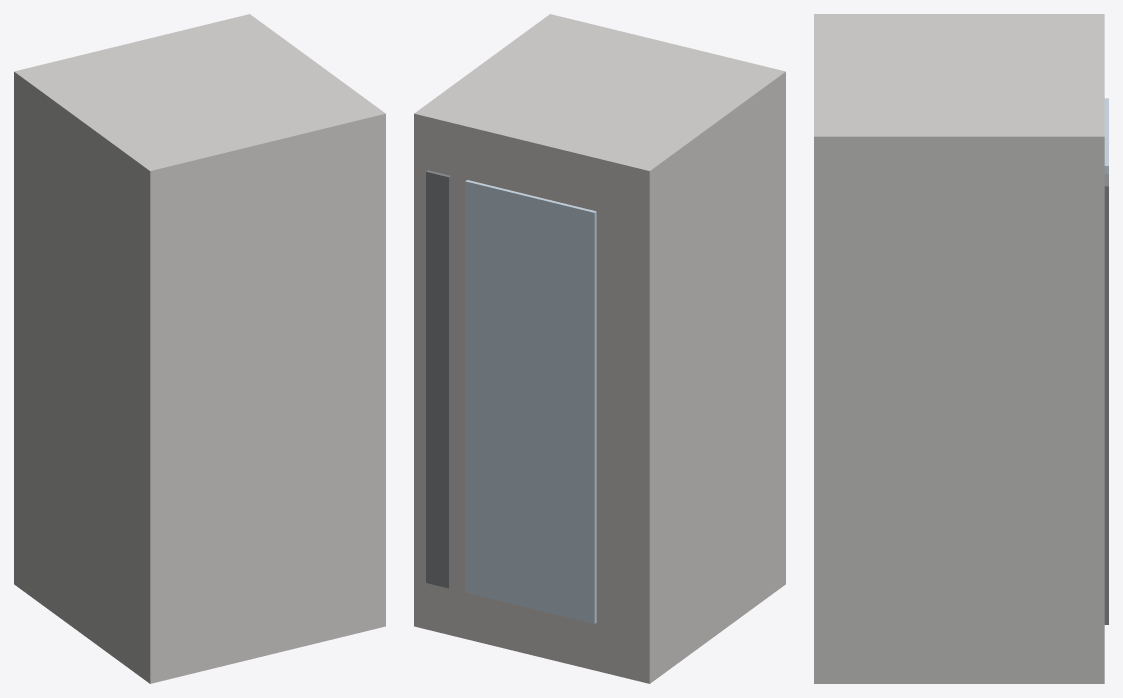
Rendered from phone_booth-PRIM-002.glb.
3 renders of one model, left to right at view 1: azimuth 30°, elevation 25°; view 2: azimuth 150°, elevation 25°; view 3: azimuth 270°, elevation 25°, orthographic. The views are drawn at different scales.
Visible parts, largest first — view 1: p0; view 2: p0, p1, p2; view 3: p0, p2.
Boxes of the visible parts, x1=… form: p0: x1=14, y1=14, x2=385, y2=683; p0: x1=414, y1=14, x2=785, y2=683; p1: x1=465, y1=180, x2=596, y2=623; p2: x1=426, y1=170, x2=450, y2=588; p0: x1=814, y1=14, x2=1104, y2=683; p2: x1=1104, y1=174, x2=1108, y2=624.
Bounding box in the file's own units: 1.02 × 2.12 × 1.03.
